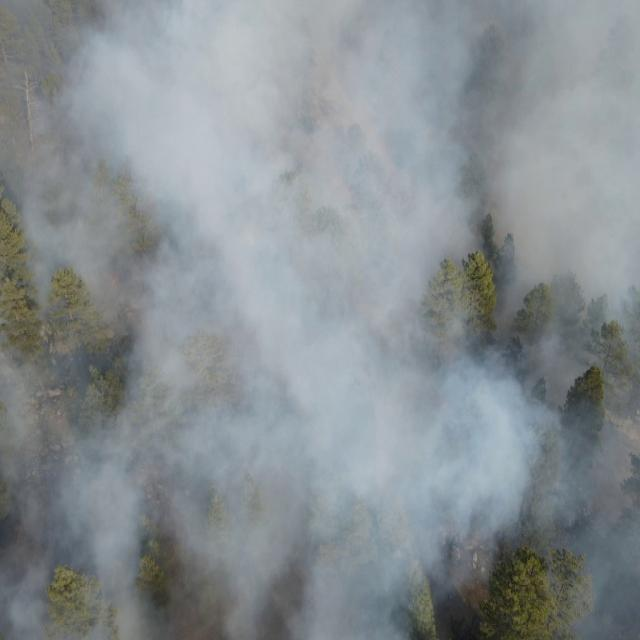fire: (107, 270, 122, 290)
smoke: (1, 2, 640, 640)
